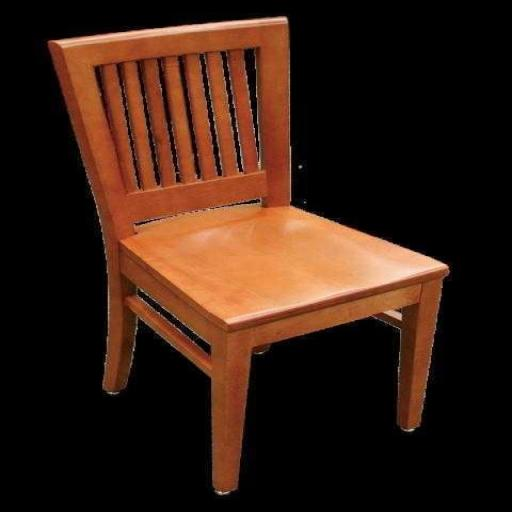chair: (44, 16, 455, 495)
